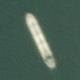ship: (0, 0, 20, 30)
